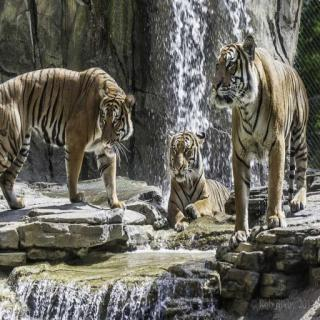Tiger: (0, 46, 158, 207), (203, 25, 320, 237), (148, 118, 236, 241)
